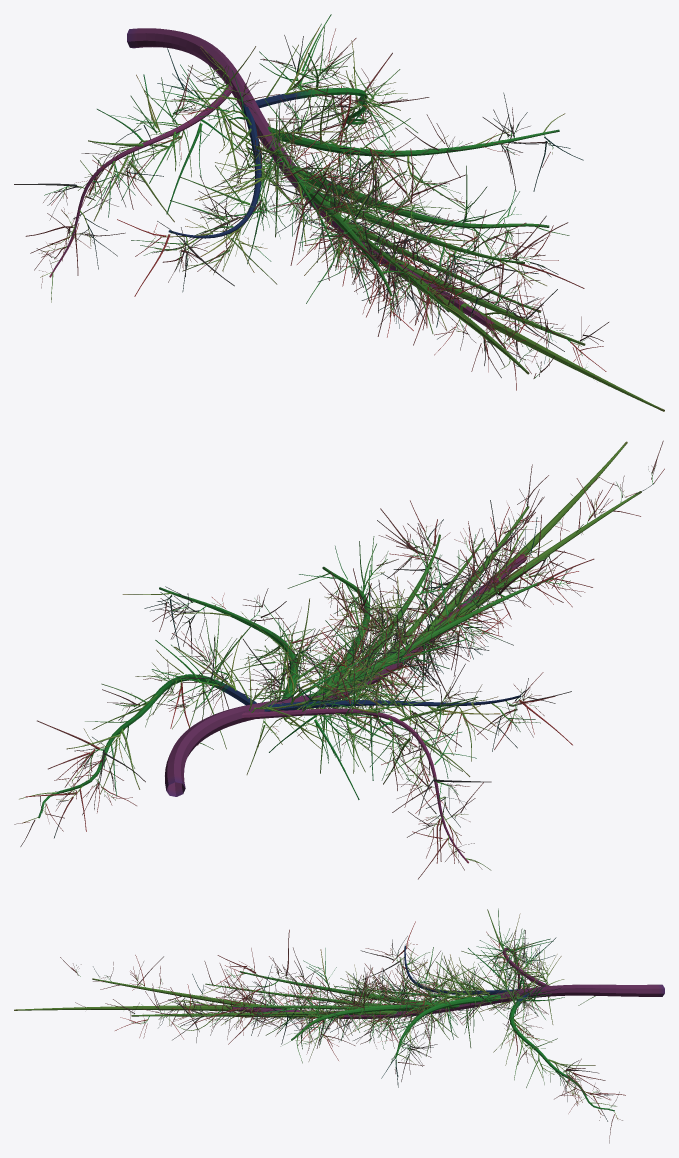
Rendered from lpy_envy_00000_fc.obj.
3 renders of one model, top to bottom at view 1: azimuth 30°, elevation 25°; view 2: azimuth 150°, elevation 25°; view 3: azimuth 270°, elevation 25°, orthographic. The views are drawn at different scales.
Size of the model in its own units: 1.43 by 0.6242 by 2.67.
